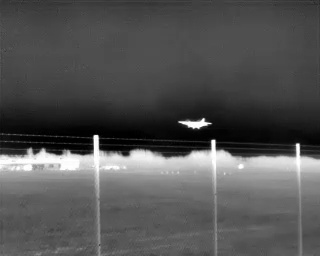AIRPLANE: (174, 115, 213, 132)
